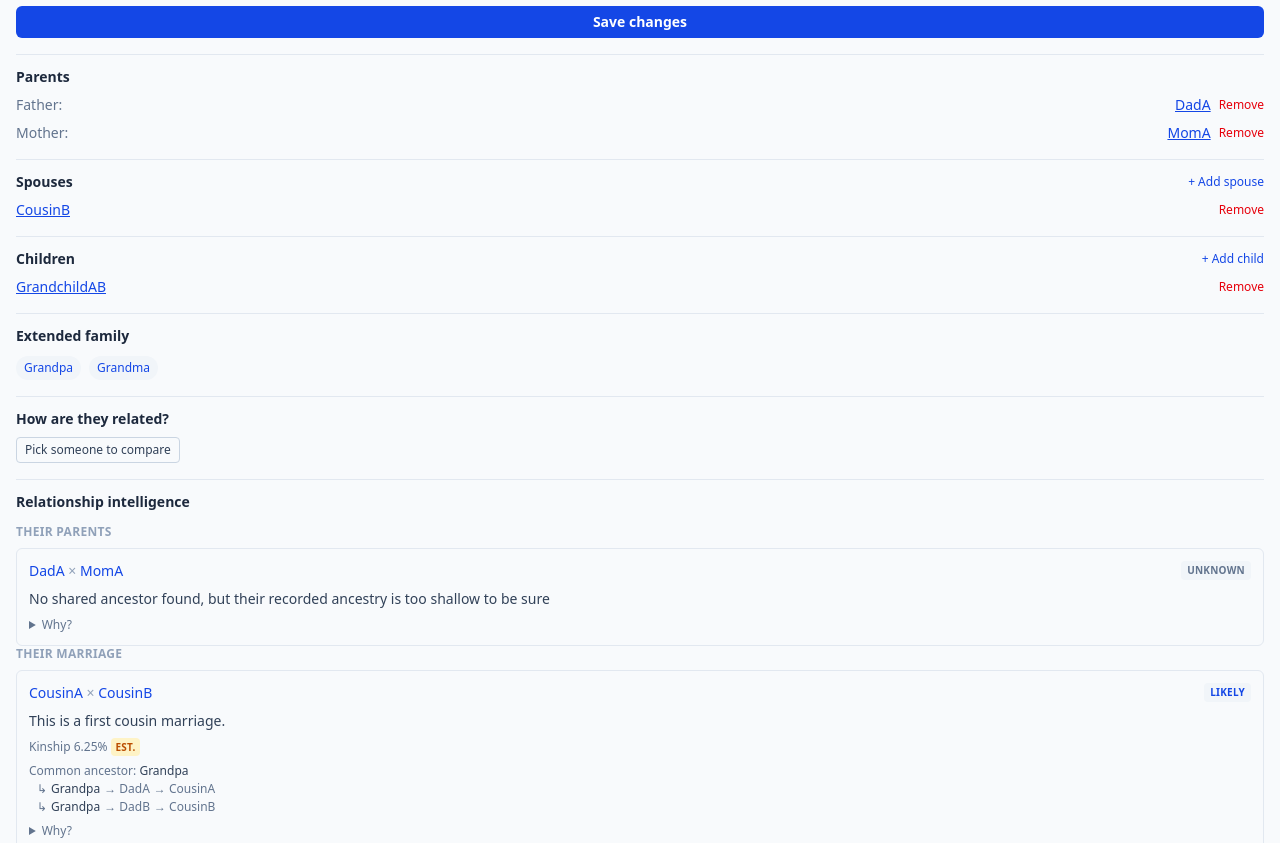
Test case: PersonInspector › answers how the selected person relates to any other person picked (S-1)
(page scrolled)
Click the button "Pick someone to compare" at (98, 450), box top-left (16, 437), bottom-right (180, 463)
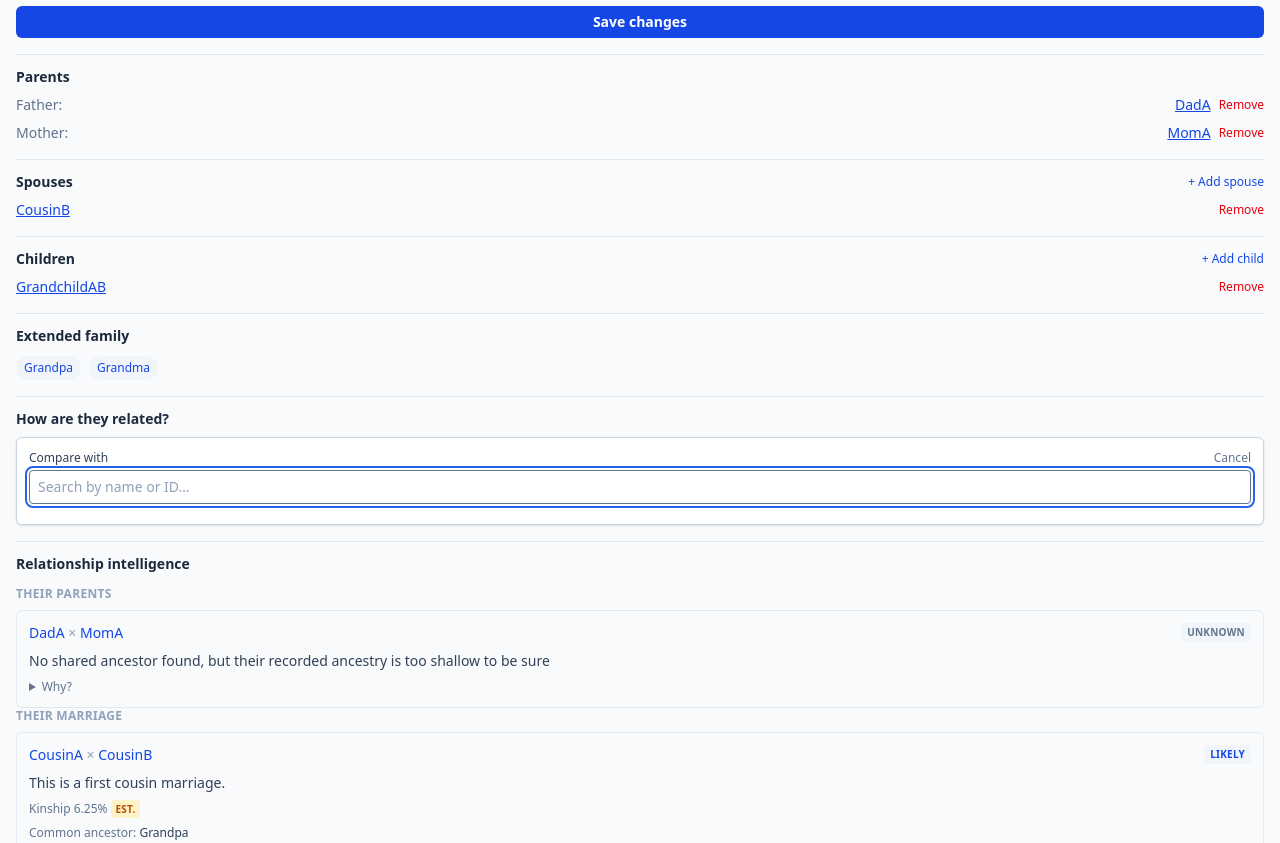
Type "Grandpa" into the field labelled "Compare with" at (640, 487), box top-left (29, 470), bottom-right (1251, 504)
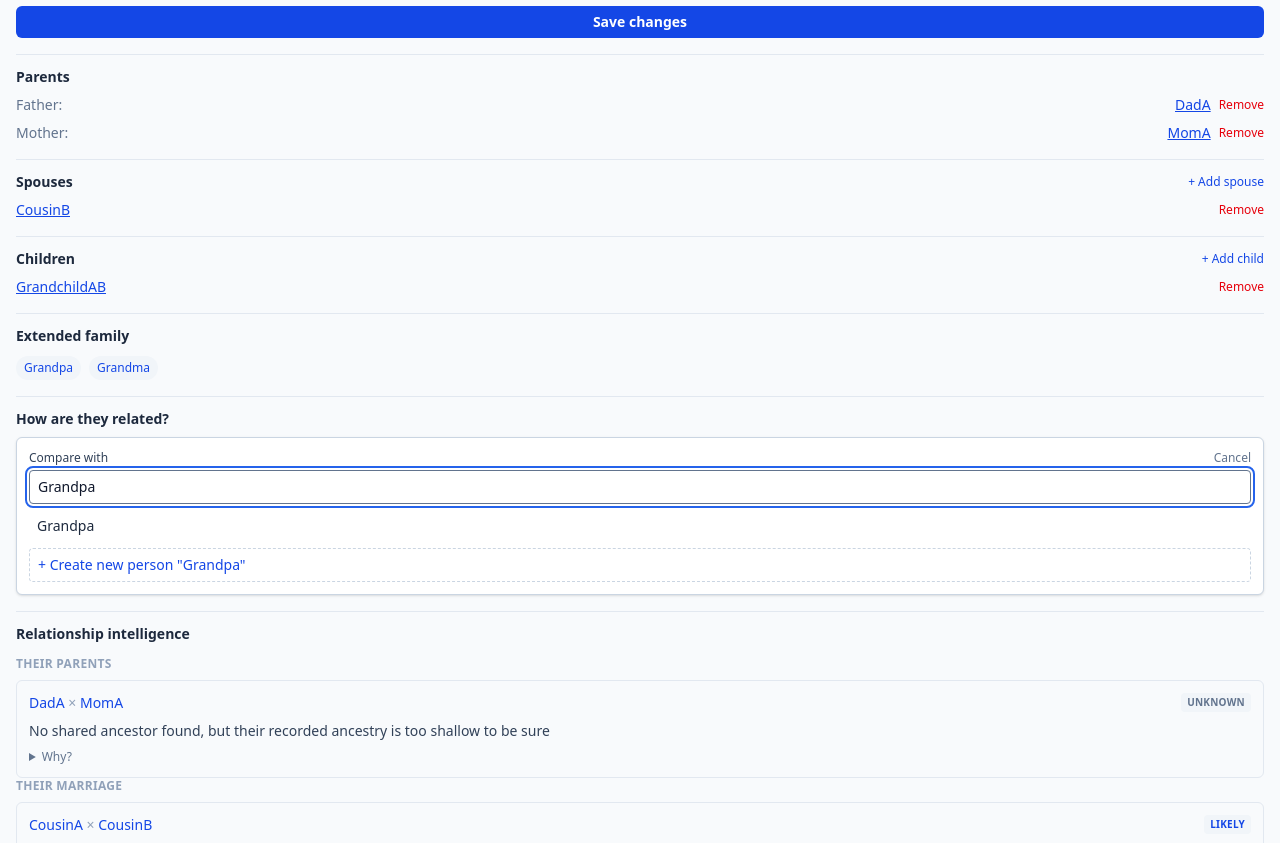
Click the button "Grandpa" below "Compare with" at (66, 526), box top-left (29, 512), bottom-right (1251, 540)
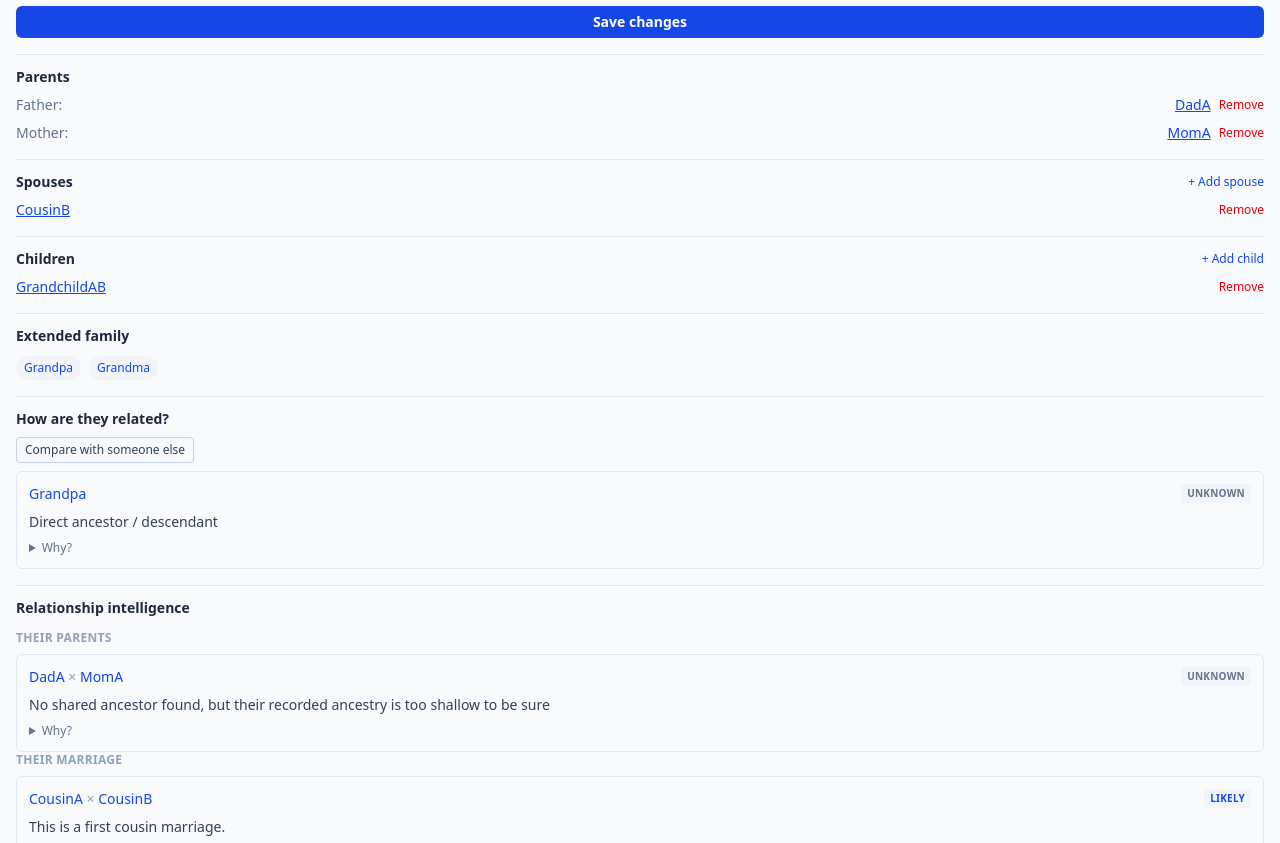
Expected: the element with test id "relationship-result" shows "Direct ancestor", top-left (29, 512), bottom-right (218, 531)
